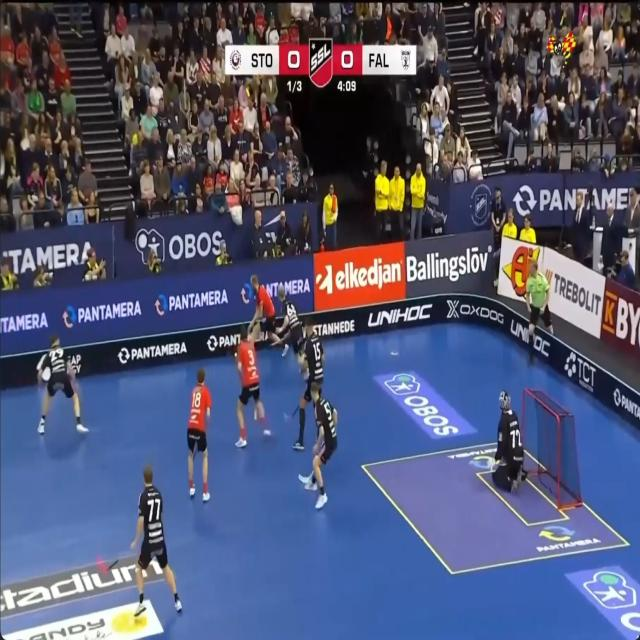player: (131, 466, 181, 615), (37, 336, 88, 434), (298, 382, 337, 509), (293, 317, 324, 450), (492, 390, 527, 490), (236, 328, 264, 447), (187, 369, 211, 501), (525, 260, 553, 358), (273, 285, 305, 356), (248, 274, 276, 341), (264, 426, 270, 434)
stick: (96, 556, 119, 573), (284, 404, 299, 421), (107, 559, 119, 570)
